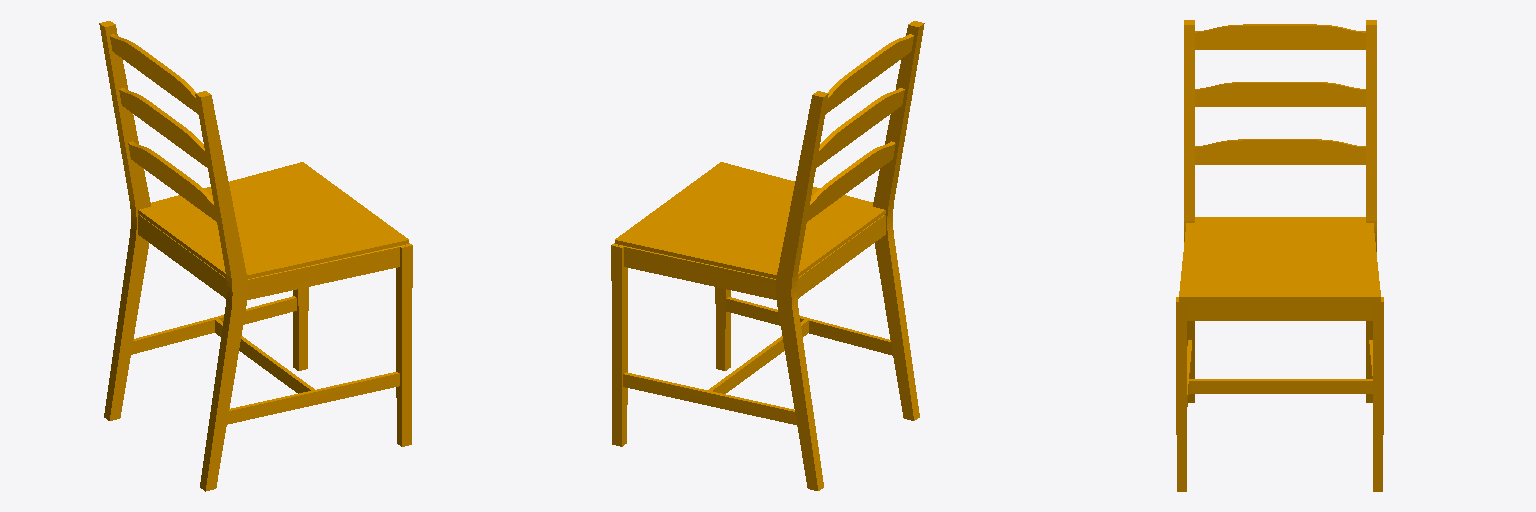
The robot description file, URDF, robot "SE7GWXQp":
<?xml version='1.0' encoding='us-ascii'?>
<robot name="SE7GWXQp">
   <link name="base_link">
      <visual>
         <origin xyz="0.0 0.0 0.0" />
         <geometry>
            <mesh filename="shape\visual\straight_chair-ocyvcb-0.obj" />
         </geometry>
      </visual>
      <collision>
         <origin xyz="0.0 0.0 0.0" />
         <geometry>
            <mesh filename="shape\collision\straight_chair-ocyvcb-0.obj" />
         </geometry>
      </collision>
   </link>
</robot>

--- Facts derived from the render (not from the file) ---
The picture shows the robot from 3 angles, left to right: view 1: azimuth 30°, elevation 25°; view 2: azimuth 150°, elevation 25°; view 3: azimuth 270°, elevation 25°; orthographic projection.
Model SE7GWXQp with 1 links and 0 joints (none), rooted at base_link, posed all joints at 0.
Links seen in each view (by area): view 1: base_link; view 2: base_link; view 3: base_link.
Link boxes in pixels (left/top/right/bottom): base_link: left=99, top=21, right=412, bottom=491; base_link: left=611, top=21, right=924, bottom=490; base_link: left=1176, top=20, right=1383, bottom=491.
Size in the robot's own frame: 0.4935 by 0.4506 by 0.8967 metres.
1 mesh visuals loaded from 1 distinct referenced files (1 OBJ).